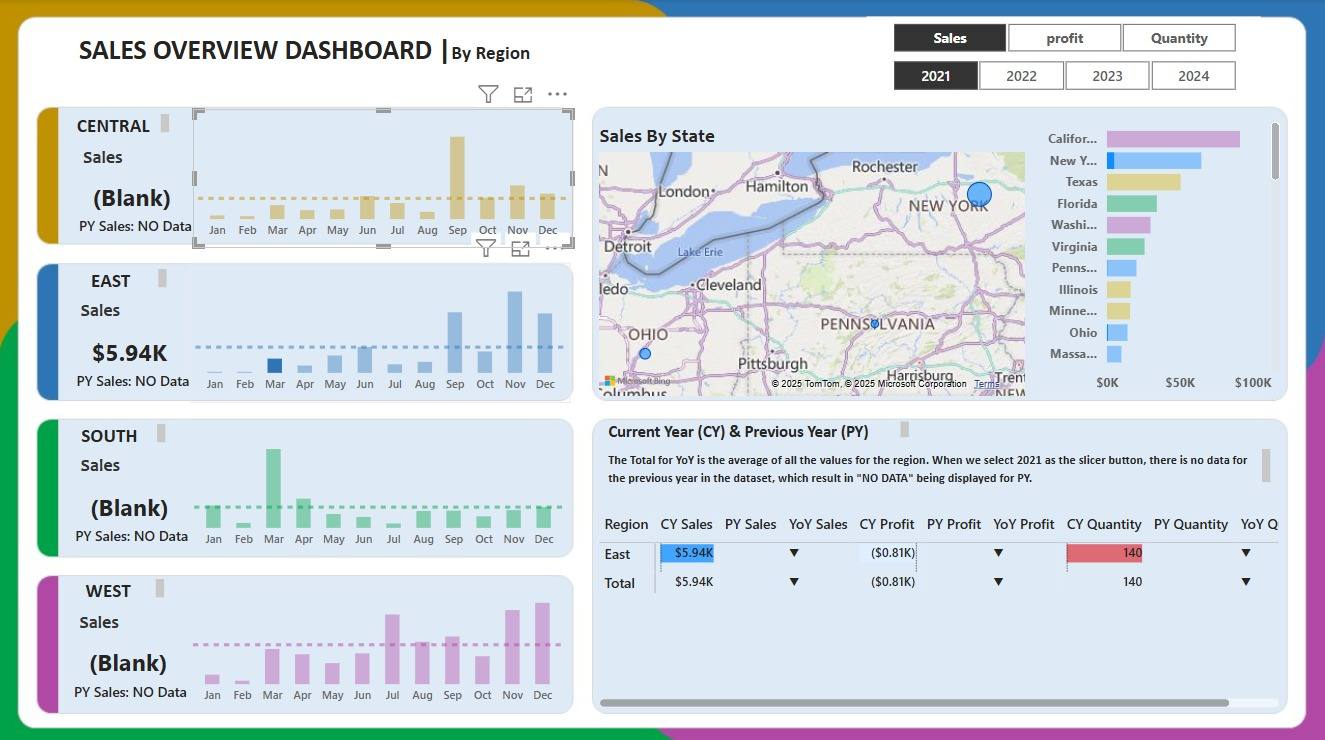

Layout of this report page (visuals, bound fields, positions):
{"tool":"powerbi","page":{"name":"Page 1","canvas":[1280,720],"ordinal":0},"visuals":[{"type":"slicer","fields":{"Values":["Select Metric.Select Metric"]},"box":[838.4,16.5,380.1,37],"z":0},{"type":"card","fields":{"Values":["Sales Data.Total Sales"]},"box":[71.4,170.2,116.6,45.3],"z":1000},{"type":"textbox","box":[60.3,106.2,109.8,30.2],"z":2000},{"type":"slicer","fields":{"Values":["Calendar Table.Year"]},"box":[838.4,53.5,380.1,41.2],"z":3000},{"type":"card","fields":{"Values":["Sales Data.Dynamic Title"]},"box":[71.4,135.8,60.4,34.3],"z":4000},{"type":"card","fields":{"Values":["Sales Data.PY KPI Sales"]},"box":[67.2,203.1,130.4,37],"z":5000},{"type":"clusteredColumnChart","fields":{"Y":["Sales Data.Total Sales"],"Category":["Calendar Table.Month"]},"box":[188,105.7,366.4,134.5],"z":6000},{"type":"textbox","box":[37,27.4,517.3,50.8],"z":7000},{"type":"card","fields":{"Values":["Sales Data.Total Sales"]},"box":[69.3,319.6,116.6,45.3],"z":8000},{"type":"textbox","box":[58.2,255.6,109.8,30.2],"z":9000},{"type":"card","fields":{"Values":["Sales Data.Dynamic Title"]},"box":[69.3,285.3,60.4,34.3],"z":10000},{"type":"card","fields":{"Values":["Sales Data.PY KPI Sales"]},"box":[65.2,352.5,130.4,37],"z":11000},{"type":"clusteredColumnChart","fields":{"Y":["Sales Data.Total Sales"],"Category":["Calendar Table.Month"]},"box":[185.9,255.1,366.4,134.5],"z":12000},{"type":"card","fields":{"Values":["Sales Data.Total Sales"]},"box":[68.2,468.9,116.6,45.3],"z":13000},{"type":"textbox","box":[57.1,404.9,109.8,30.2],"z":14000},{"type":"card","fields":{"Values":["Sales Data.Dynamic Title"]},"box":[68.2,434.6,60.4,34.3],"z":15000},{"type":"card","fields":{"Values":["Sales Data.PY KPI Sales"]},"box":[64.1,501.8,130.4,37],"z":16000},{"type":"clusteredColumnChart","fields":{"Y":["Sales Data.Total Sales"],"Category":["Calendar Table.Month"]},"box":[184.8,404.4,366.4,134.5],"z":17000},{"type":"card","fields":{"Values":["Sales Data.Total Sales"]},"box":[67.1,619.3,116.6,45.3],"z":18000},{"type":"textbox","box":[56.1,555.3,109.8,30.2],"z":19000},{"type":"card","fields":{"Values":["Sales Data.Dynamic Title"]},"box":[67.1,585,60.4,34.3],"z":20000},{"type":"card","fields":{"Values":["Sales Data.PY KPI Sales"]},"box":[63,652.2,130.4,37],"z":21000},{"type":"clusteredColumnChart","fields":{"Y":["Sales Data.Total Sales"],"Category":["Calendar Table.Month"]},"box":[183.7,554.8,366.4,134.5],"z":22000},{"type":"map","title":"Sales By State","fields":{"Size":["Sales Data.Total Sales"],"Category":["Sales Data.State/Province"],"Series":["Sales Data.Region"]},"box":[575,120.8,421.3,267.6],"z":23000},{"type":"barChart","fields":{"Y":["Sales Data.Total Sales"],"Category":["Sales Data.State/Province"],"Series":["Sales Data.Region"]},"box":[996.2,105.7,245.6,282.7],"z":24000},{"type":"pivotTable","fields":{"Rows":["Sales Data.Region"],"Values":["Sales Data.CY Sales","Sales Data.PY Sales","Sales Data.YoY Sales","Sales Data.CY Profit","Sales Data.PY Profit","Sales Data.YoY Profit","Sales Data.CY Quantity","Sales Data.PY Quantity","Sales Data.YoY Quantity"]},"box":[575.5,491,666,197.9],"z":25000},{"type":"textbox","box":[583.9,403,300.4,31.4],"z":26000},{"type":"textbox","box":[583.9,429.5,649.1,43.4],"z":27000}]}

Visuals, with their boxes in screenshot pixels (x1, y1, x2, y2), scaled from the page's 1280x720 canvas onto the 1325x740 screenshot:
slicer - Select Metric.Select Metric: locate(868, 17, 1261, 55)
card - Sales Data.Total Sales: locate(74, 175, 195, 221)
textbox: locate(62, 109, 176, 140)
slicer - Calendar Table.Year: locate(868, 55, 1261, 97)
card - Sales Data.Dynamic Title: locate(74, 140, 136, 175)
card - Sales Data.PY KPI Sales: locate(70, 209, 205, 247)
clusteredColumnChart - Sales Data.Total Sales x Calendar Table.Month: locate(195, 109, 574, 247)
textbox: locate(38, 28, 574, 80)
card - Sales Data.Total Sales: locate(72, 328, 192, 375)
textbox: locate(60, 263, 174, 294)
card - Sales Data.Dynamic Title: locate(72, 293, 134, 328)
card - Sales Data.PY KPI Sales: locate(67, 362, 202, 400)
clusteredColumnChart - Sales Data.Total Sales x Calendar Table.Month: locate(192, 262, 572, 400)
card - Sales Data.Total Sales: locate(71, 482, 191, 528)
textbox: locate(59, 416, 173, 447)
card - Sales Data.Dynamic Title: locate(71, 447, 133, 482)
card - Sales Data.PY KPI Sales: locate(66, 516, 201, 554)
clusteredColumnChart - Sales Data.Total Sales x Calendar Table.Month: locate(191, 416, 571, 554)
card - Sales Data.Total Sales: locate(69, 637, 190, 683)
textbox: locate(58, 571, 172, 602)
card - Sales Data.Dynamic Title: locate(69, 601, 132, 637)
card - Sales Data.PY KPI Sales: locate(65, 670, 200, 708)
clusteredColumnChart - Sales Data.Total Sales x Calendar Table.Month: locate(190, 570, 569, 708)
"Sales By State" map: locate(595, 124, 1031, 399)
barChart - Sales Data.Total Sales x Sales Data.State/Province: locate(1031, 109, 1285, 399)
pivotTable - Sales Data.Region x Sales Data.CY Sales: locate(596, 505, 1285, 708)
textbox: locate(604, 414, 915, 446)
textbox: locate(604, 441, 1276, 486)
